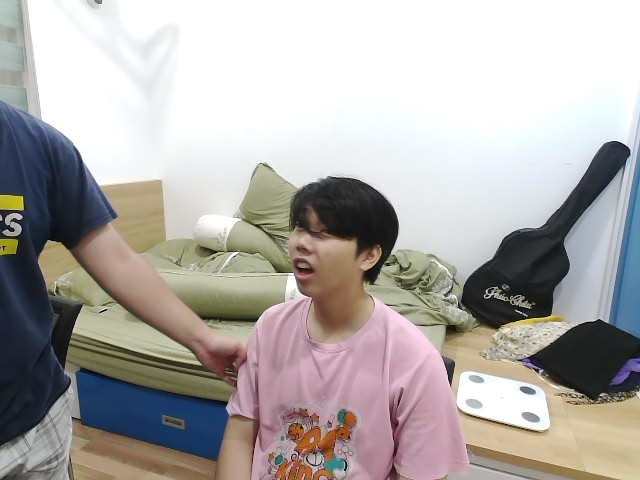face: (286, 176, 398, 298)
